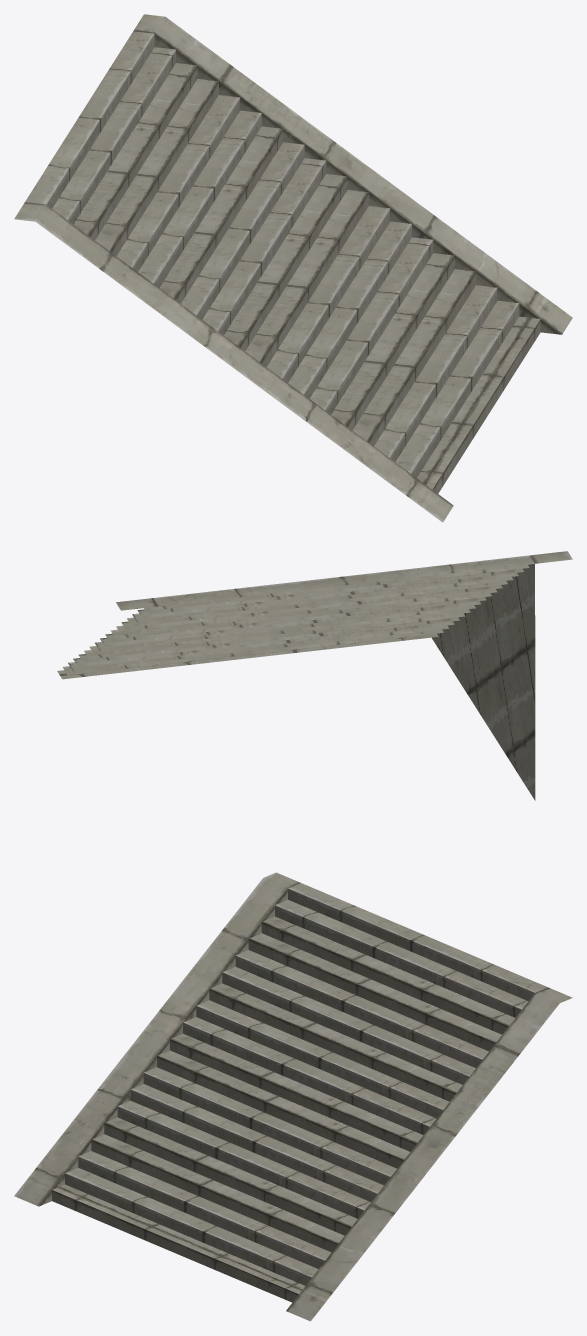
The picture shows the model from 3 angles, top to bottom: view 1: azimuth 30°, elevation 25°; view 2: azimuth 150°, elevation 25°; view 3: azimuth 270°, elevation 25°; orthographic projection. The views are drawn at different scales.
Visible parts, largest first — view 1: body0_model0_lod0_mesh0; view 2: body0_model0_lod0_mesh0; view 3: body0_model0_lod0_mesh0.
Boxes of the visible parts, x1=… form: body0_model0_lod0_mesh0: x1=14, y1=14, x2=572, y2=522; body0_model0_lod0_mesh0: x1=57, y1=551, x2=572, y2=800; body0_model0_lod0_mesh0: x1=14, y1=872, x2=572, y2=1321.
Size of the model in its own units: 362 by 152 by 362.
1 material, 1 textured.
